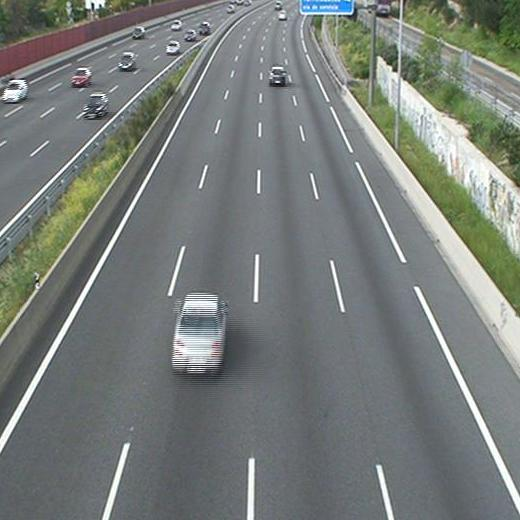car: (171, 294, 226, 370), (269, 67, 285, 85), (278, 11, 289, 21)
